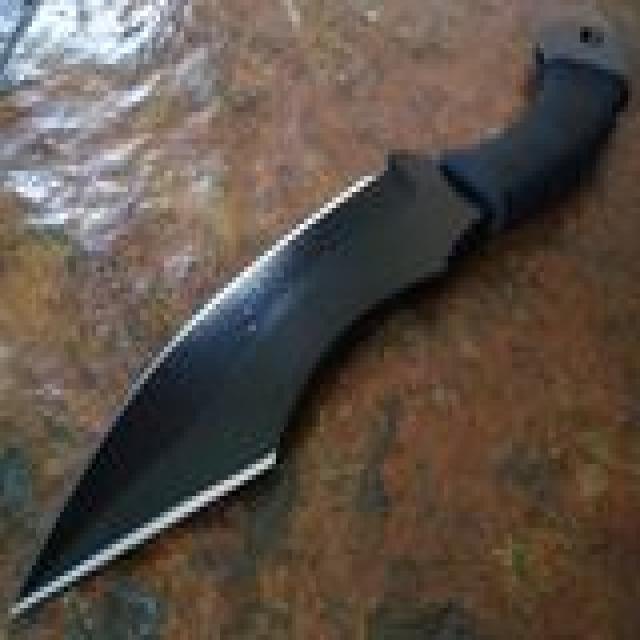Knife: (11, 0, 632, 614)
